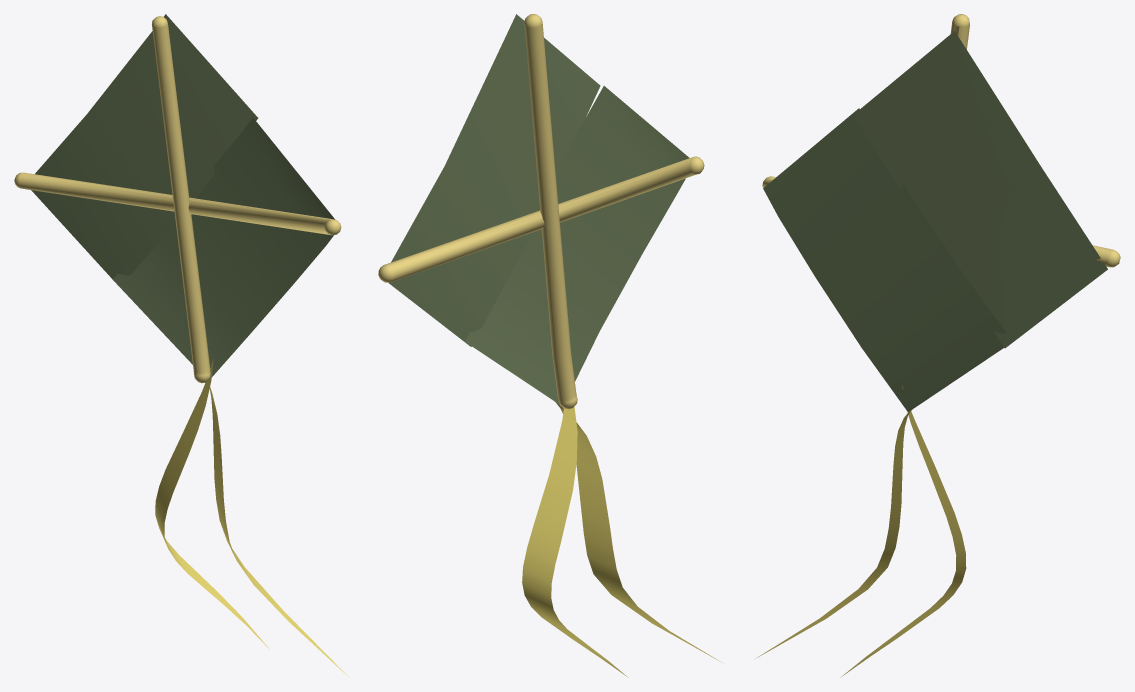
The model's file is kite.fbx.
3 views of the same model, side by side, from view 1: azimuth 90°, elevation 25°; view 2: azimuth 150°, elevation 25°; view 3: azimuth 270°, elevation 25° (orthographic). The views are drawn at different scales.
Visible parts, largest first — view 1: kite; view 2: kite; view 3: kite.
Part boxes in pixels (x1,y1,x2,y2): kite: (14,14,349,677); kite: (378,14,721,677); kite: (754,14,1120,676).
Size of the model in its own units: 20.77 by 87.74 by 42.65.
